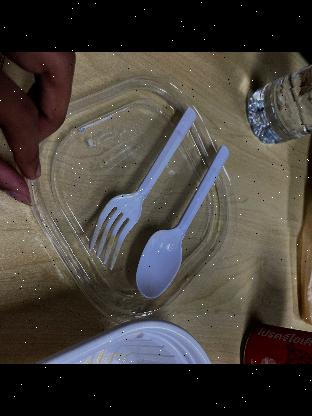Others: (80, 96, 200, 270), (131, 135, 241, 299)
